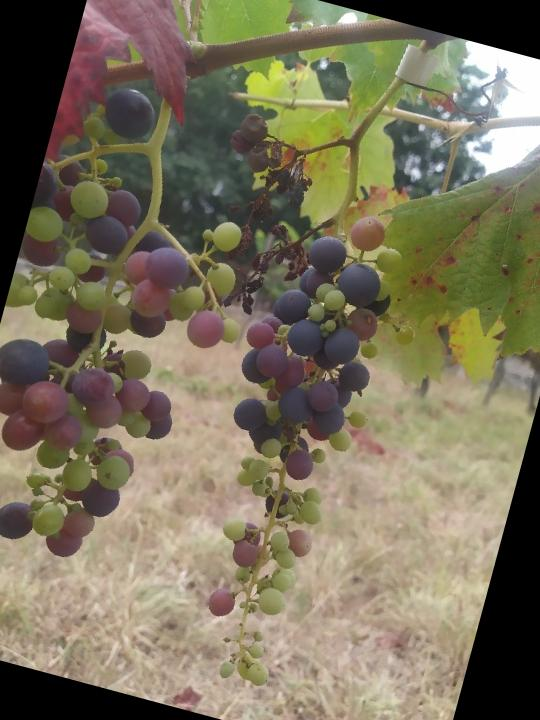grape: (0, 69, 296, 591), (160, 194, 439, 703), (185, 109, 342, 329)
